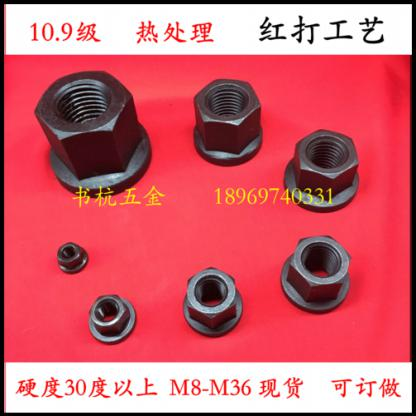FOD: (36, 68, 153, 196), (188, 76, 270, 165), (282, 126, 364, 204), (278, 232, 354, 315), (178, 266, 246, 337), (84, 288, 137, 348), (56, 242, 89, 278)
